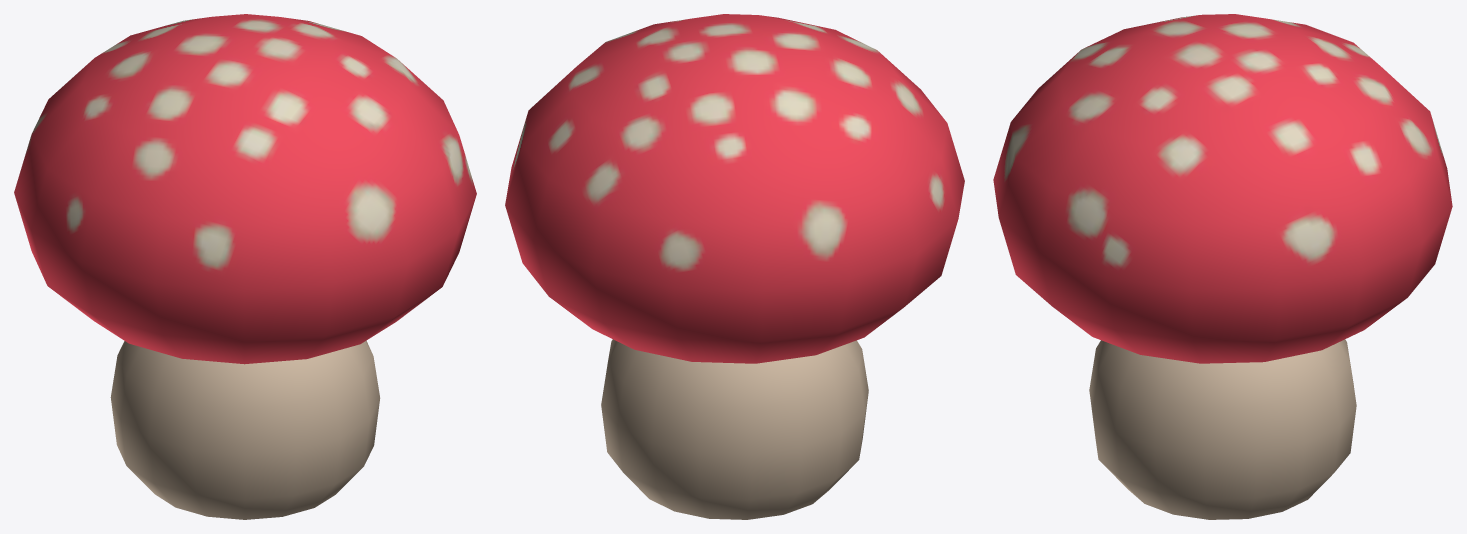
The model's file is MushroomMedium.fbx.
3 views of the same model, side by side, from view 1: azimuth 30°, elevation 25°; view 2: azimuth 150°, elevation 25°; view 3: azimuth 270°, elevation 25° (orthographic).
Parts seen in each view (by area): view 1: MushroomMedium; view 2: MushroomMedium; view 3: MushroomMedium.
Part boxes in pixels (x1=…): MushroomMedium: x1=14, y1=14, x2=476, y2=519; MushroomMedium: x1=505, y1=14, x2=964, y2=519; MushroomMedium: x1=993, y1=14, x2=1452, y2=519.
Bounding box in the file's own units: 0.9728 × 1.03 × 0.9728.
Materials: 1 (1 with a texture image).
